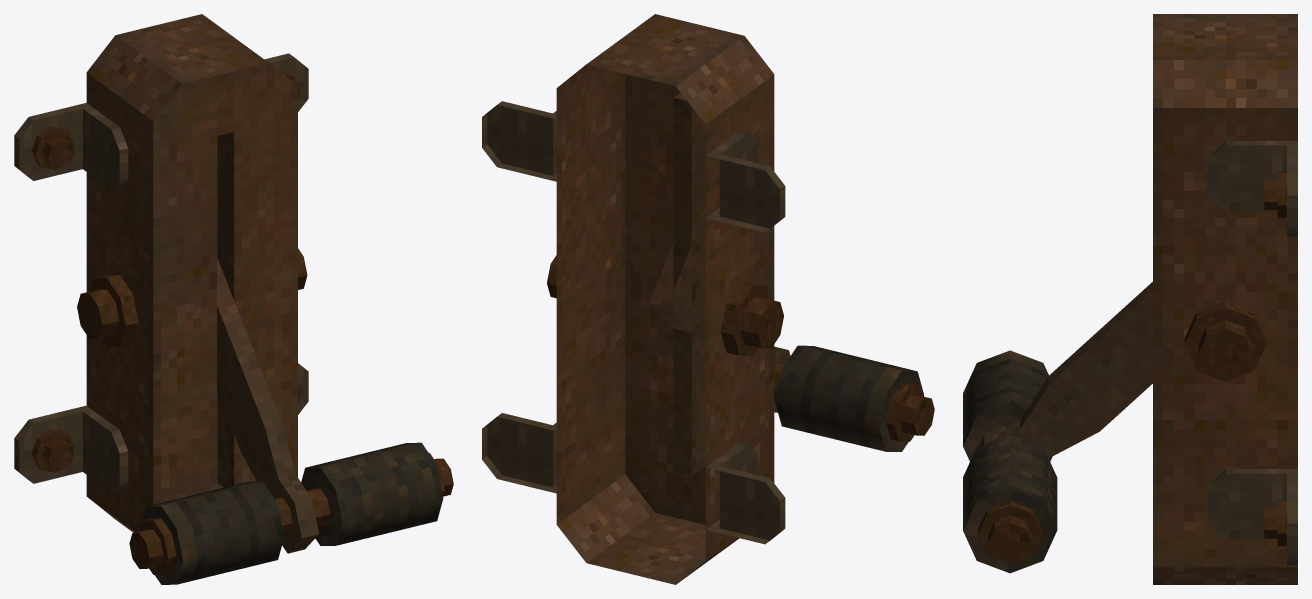
The model's file is lever_etx_7.glb.
3 renders of one model, left to right at view 1: azimuth 30°, elevation 25°; view 2: azimuth 150°, elevation 25°; view 3: azimuth 270°, elevation 25°, orthographic. The views are drawn at different scales.
Visible parts, largest first — view 1: lever_etx_7, lever_etx_7_child; view 2: lever_etx_7, lever_etx_7_child; view 3: lever_etx_7, lever_etx_7_child.
Boxes of the visible parts, x1,y1,x2,y2 form: lever_etx_7: (14, 14, 308, 532); lever_etx_7_child: (129, 258, 453, 584); lever_etx_7: (482, 14, 785, 584); lever_etx_7_child: (649, 241, 934, 451); lever_etx_7: (1153, 14, 1297, 584); lever_etx_7_child: (963, 282, 1152, 573).
Bounding box in the file's own units: 0.1894 × 0.288 × 0.1665.
Materials: 1 (1 with a texture image).
